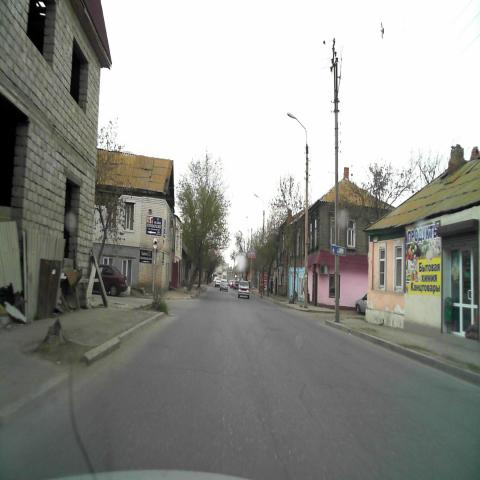6_15_1: (330, 245, 346, 257)
